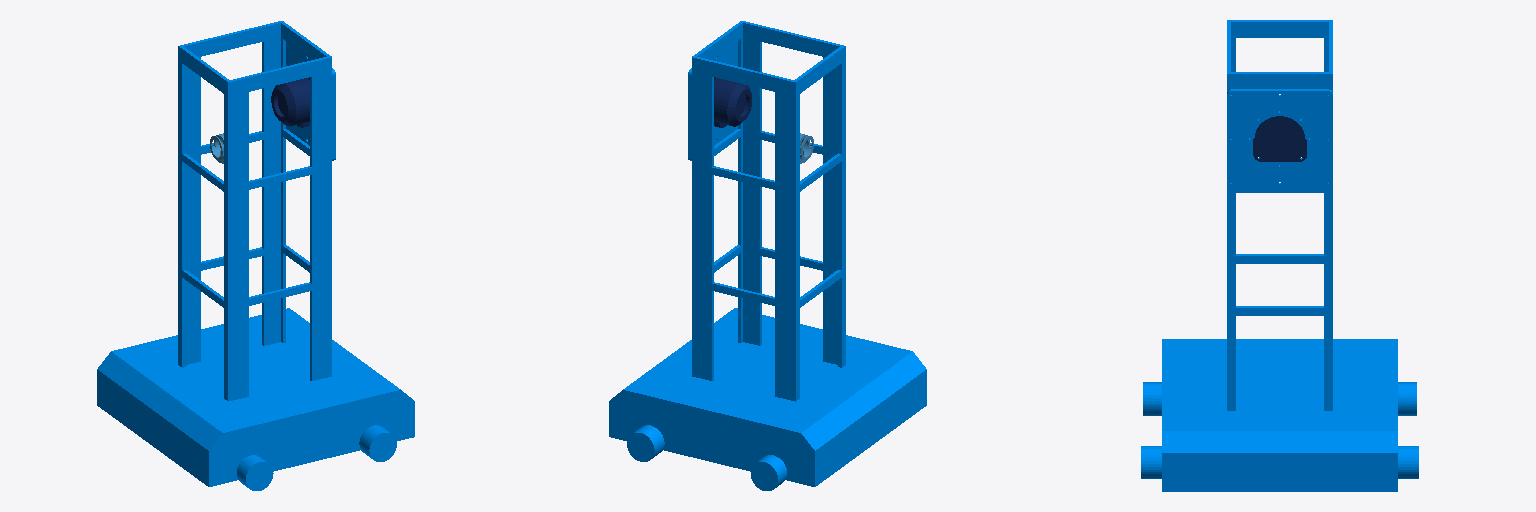
The robot description file, URDF, robot "cr_no_v.SLDASM":
<?xml version="1.0" encoding="utf-8"?>
<!-- This URDF was automatically created by SolidWorks to URDF Exporter! Originally created by [author] ([email redacted]) 
     Commit Version: 1.6.0-4-g7f85cfe  Build Version: 1.6.7995.38578
     For more information, please see http://wiki.ros.org/sw_urdf_exporter -->
<robot
  name="cr_no_v.SLDASM">
  <link
    name="base_link">
    <inertial>
      <origin
        xyz="0.0035105 9.3853E-07 0.20233"
        rpy="0 0 0" />
      <mass
        value="50.046" />
      <inertia
        ixx="2.7717"
        ixy="2.0142E-07"
        ixz="-0.053688"
        iyy="2.8372"
        iyz="-5.3566E-05"
        izz="2.6914" />
    </inertial>
    <visual>
      <origin
        xyz="0 0 0"
        rpy="0 0 0" />
      <geometry>
        <mesh
          filename="package://cr_no_v.SLDASM/meshes/base_link.STL" />
      </geometry>
      <material
        name="al">
        <color
          rgba="0 0.6 1 1" />
      </material>
    </visual>
    <collision>
      <origin
        xyz="0 0 0"
        rpy="0 0 0" />
      <geometry>
        <mesh
          filename="package://cr_no_v.SLDASM/meshes/base_link.STL" />
      </geometry>
    </collision>
  </link>
  <link
    name="wheel_rf_link">
    <inertial>
      <origin
        xyz="-2.377E-08 0.025001 -6.6441E-06"
        rpy="0 0 0" />
      <mass
        value="1.6415" />
      <inertia
        ixx="0.005947"
        ixy="1.8204E-10"
        ixz="-1.3982E-09"
        iyy="0.011256"
        iyz="-3.3293E-10"
        izz="0.005947" />
    </inertial>
    <visual>
      <origin
        xyz="0 0 0"
        rpy="0 0 0" />
      <geometry>
        <mesh
          filename="package://cr_no_v.SLDASM/meshes/wheel_rf_link.STL" />
      </geometry>
      <material
        name="">
        <color
          rgba="0.5 0.5 0.5 1" />
      </material>
    </visual>
    <collision>
      <origin
        xyz="0 0 0"
        rpy="0 0 0" />
      <geometry>
        <mesh
          filename="package://cr_no_v.SLDASM/meshes/wheel_rf_link.STL" />
      </geometry>
    </collision>
  </link>
  <joint
    name="wheel_rf_joint"
    type="continuous">
    <origin
      xyz="0.1787 -0.32914 0.1125"
      rpy="0 0 0" />
    <parent
      link="base_link" />
    <child
      link="wheel_rf_link" />
    <axis
      xyz="0 1 0" />
  </joint>
  <link
    name="wheel_lf_link">
    <inertial>
      <origin
        xyz="6.1889E-08 -0.024999 -3.4683E-06"
        rpy="0 0 0" />
      <mass
        value="1.6415" />
      <inertia
        ixx="0.005947"
        ixy="3.0662E-11"
        ixz="1.9576E-09"
        iyy="0.011256"
        iyz="-3.3292E-10"
        izz="0.005947" />
    </inertial>
    <visual>
      <origin
        xyz="0 0 0"
        rpy="0 0 0" />
      <geometry>
        <mesh
          filename="package://cr_no_v.SLDASM/meshes/wheel_lf_link.STL" />
      </geometry>
      <material
        name="">
        <color
          rgba="0.5 0.5 0.5 1" />
      </material>
    </visual>
    <collision>
      <origin
        xyz="0 0 0"
        rpy="0 0 0" />
      <geometry>
        <mesh
          filename="package://cr_no_v.SLDASM/meshes/wheel_lf_link.STL" />
      </geometry>
    </collision>
  </link>
  <joint
    name="wheel_lf_joint"
    type="continuous">
    <origin
      xyz="0.1787 0.32914 0.1125"
      rpy="0 0 0" />
    <parent
      link="base_link" />
    <child
      link="wheel_lf_link" />
    <axis
      xyz="0 1 0" />
  </joint>
  <link
    name="wheel_lr_link">
    <inertial>
      <origin
        xyz="0.00013107 1.5985E-06 0.020265"
        rpy="0 0 0" />
      <mass
        value="1.6024" />
      <inertia
        ixx="0.0057413"
        ixy="9.8389E-35"
        ixz="1.2543E-19"
        iyy="0.0057413"
        iyz="-7.5792E-18"
        izz="0.010787" />
    </inertial>
    <visual>
      <origin
        xyz="0 0 0"
        rpy="0 0 0" />
      <geometry>
        <mesh
          filename="package://cr_no_v.SLDASM/meshes/wheel_lr_link.STL" />
      </geometry>
      <material
        name="">
        <color
          rgba="0.7 0.7 0.2 1" />
      </material>
    </visual>
    <collision>
      <origin
        xyz="0 0 0"
        rpy="0 0 0" />
      <geometry>
        <mesh
          filename="package://cr_no_v.SLDASM/meshes/wheel_lr_link.STL" />
      </geometry>
    </collision>
  </link>
  <joint
    name="wheel_lr_joint"
    type="continuous">
    <origin
      xyz="-0.17499 0.3244 0.1125"
      rpy="1.5708 0 0" />
    <parent
      link="base_link" />
    <child
      link="wheel_lr_link" />
    <axis
      xyz="-0.0003518 0 -1" />
  </joint>
  <link
    name="wheel_rr_Link">
    <inertial>
      <origin
        xyz="-9.7179E-05 0.020265 -2.9986E-09"
        rpy="0 0 0" />
      <mass
        value="1.6024" />
      <inertia
        ixx="0.0057413"
        ixy="-1.4123E-19"
        ixz="4.4829E-34"
        iyy="0.010787"
        iyz="-1.7435E-17"
        izz="0.0057413" />
    </inertial>
    <visual>
      <origin
        xyz="0 0 0"
        rpy="0 0 0" />
      <geometry>
        <mesh
          filename="package://cr_no_v.SLDASM/meshes/wheel_rr_Link.STL" />
      </geometry>
      <material
        name="">
        <color
          rgba="0.7 0.7 0.2 1" />
      </material>
    </visual>
    <collision>
      <origin
        xyz="0 0 0"
        rpy="0 0 0" />
      <geometry>
        <mesh
          filename="package://cr_no_v.SLDASM/meshes/wheel_rr_Link.STL" />
      </geometry>
    </collision>
  </link>
  <joint
    name="wheel_rr_joint"
    type="continuous">
    <origin
      xyz="-0.17476 -0.3244 0.1125"
      rpy="0 0 0" />
    <parent
      link="base_link" />
    <child
      link="wheel_rr_Link" />
    <axis
      xyz="-0.0003518 1 0" />
  </joint>
  <link
    name="Rob_base">
    <inertial>
      <origin
        xyz="-0.00059199 0.00061297 0.039398"
        rpy="0 0 0" />
      <mass
        value="0.91605" />
      <inertia
        ixx="0.0013771"
        ixy="-1.6838E-07"
        ixz="-1.2662E-06"
        iyy="0.0013992"
        iyz="1.1024E-07"
        izz="0.0016573" />
    </inertial>
    <visual>
      <origin
        xyz="0 0 0"
        rpy="0 0 0" />
      <geometry>
        <mesh
          filename="package://cr_no_v.SLDASM/meshes/Rob_base.STL" />
      </geometry>
      <material
        name="">
        <color
          rgba="0.1 0.2 0.4 1" />
      </material>
    </visual>
    <collision>
      <origin
        xyz="0 0 0"
        rpy="0 0 0" />
      <geometry>
        <mesh
          filename="package://cr_no_v.SLDASM/meshes/Rob_base.STL" />
      </geometry>
    </collision>
  </link>
  <joint
    name="Rob_base_fix"
    type="fixed">
    <origin
      xyz="0.15995 0 0.9465"
      rpy="0 -1.5708 0" />
    <parent
      link="base_link" />
    <child
      link="Rob_base" />
    <axis
      xyz="0 0 0" />
  </joint>
  <link
    name="arm_seg1">
    <inertial>
      <origin
        xyz="8.9128E-09 -0.00016808 0.057416"
        rpy="0 0 0" />
      <mass
        value="0.55857" />
      <inertia
        ixx="0.00064447"
        ixy="-8.2983E-11"
        ixz="9.7825E-11"
        iyy="0.00075757"
        iyz="-1.0039E-06"
        izz="0.00052009" />
    </inertial>
    <visual>
      <origin
        xyz="0 0 0"
        rpy="0 0 0" />
      <geometry>
        <mesh
          filename="package://cr_no_v.SLDASM/meshes/arm_seg1.STL" />
      </geometry>
      <material
        name="">
        <color
          rgba="0.2 0.2 0.4 1" />
      </material>
    </visual>
    <collision>
      <origin
        xyz="0 0 0"
        rpy="0 0 0" />
      <geometry>
        <mesh
          filename="package://cr_no_v.SLDASM/meshes/arm_seg1.STL" />
      </geometry>
    </collision>
  </link>
  <joint
    name="arm_seg1_rev"
    type="revolute">
    <origin
      xyz="0 0 0.0892"
      rpy="0 0 3.1416" />
    <parent
      link="Rob_base" />
    <child
      link="arm_seg1" />
    <axis
      xyz="0 0 -1" />
    <limit
      lower="0"
      upper="0"
      effort="0"
      velocity="0" />
  </joint>
  <link
    name="arm_seg2">
    <inertial>
      <origin
        xyz="0.20298 0.018509 0.00037949"
        rpy="0 0 0" />
      <mass
        value="0.76675" />
      <inertia
        ixx="0.001099"
        ixy="-0.00066885"
        ixz="2.1104E-05"
        iyy="0.014608"
        iyz="-2.2639E-07"
        izz="0.014433" />
    </inertial>
    <visual>
      <origin
        xyz="0 0 0"
        rpy="0 0 0" />
      <geometry>
        <mesh
          filename="package://cr_no_v.SLDASM/meshes/arm_seg2.STL" />
      </geometry>
      <material
        name="">
        <color
          rgba="0.3 0.3 0.8 1" />
      </material>
    </visual>
    <collision>
      <origin
        xyz="0 0 0"
        rpy="0 0 0" />
      <geometry>
        <mesh
          filename="package://cr_no_v.SLDASM/meshes/arm_seg2.STL" />
      </geometry>
    </collision>
  </link>
  <joint
    name="arm_seg2_rev"
    type="revolute">
    <origin
      xyz="0 0 0.0615"
      rpy="1.5708 0 0" />
    <parent
      link="arm_seg1" />
    <child
      link="arm_seg2" />
    <axis
      xyz="0 0 1" />
    <limit
      lower="0"
      upper="0"
      effort="0"
      velocity="0" />
  </joint>
  <link
    name="arm_seg3">
    <inertial>
      <origin
        xyz="0.062638 0.099583 -0.00060821"
        rpy="0 0 0" />
      <mass
        value="0.92519" />
      <inertia
        ixx="0.0054137"
        ixy="-0.0005461"
        ixz="9.1776E-09"
        iyy="0.00089221"
        iyz="1.2056E-11"
        izz="0.0054963" />
    </inertial>
    <visual>
      <origin
        xyz="0 0 0"
        rpy="0 0 0" />
      <geometry>
        <mesh
          filename="package://cr_no_v.SLDASM/meshes/arm_seg3.STL" />
      </geometry>
      <material
        name="">
        <color
          rgba="0.2 0.3 0.8 1" />
      </material>
    </visual>
    <collision>
      <origin
        xyz="0 0 0"
        rpy="0 0 0" />
      <geometry>
        <mesh
          filename="package://cr_no_v.SLDASM/meshes/arm_seg3.STL" />
      </geometry>
    </collision>
  </link>
  <joint
    name="arm_seg3_rev"
    type="revolute">
    <origin
      xyz="0.34928 0.02 -0.00068495"
      rpy="-3.1416 0 1.5708" />
    <parent
      link="arm_seg2" />
    <child
      link="arm_seg3" />
    <axis
      xyz="0 0 1" />
    <limit
      lower="0"
      upper="0"
      effort="0"
      velocity="0" />
  </joint>
  <link
    name="arm_seg4">
    <inertial>
      <origin
        xyz="0.00060866 -0.0011863 0.27449"
        rpy="0 0 0" />
      <mass
        value="0.082693" />
      <inertia
        ixx="6.2751E-05"
        ixy="-1.3077E-09"
        ixz="7.6011E-10"
        iyy="7.2735E-05"
        iyz="3.0814E-06"
        izz="5.9938E-05" />
    </inertial>
    <visual>
      <origin
        xyz="0 0 0"
        rpy="0 0 0" />
      <geometry>
        <mesh
          filename="package://cr_no_v.SLDASM/meshes/arm_seg4.STL" />
      </geometry>
      <material
        name="">
        <color
          rgba="0.3 0.6 0.8 1" />
      </material>
    </visual>
    <collision>
      <origin
        xyz="0 0 0"
        rpy="0 0 0" />
      <geometry>
        <mesh
          filename="package://cr_no_v.SLDASM/meshes/arm_seg4.STL" />
      </geometry>
    </collision>
  </link>
  <joint
    name="arm_seg4_rev"
    type="revolute">
    <origin
      xyz="0.07 0.00395 0"
      rpy="1.5708 1.5708 0" />
    <parent
      link="arm_seg3" />
    <child
      link="arm_seg4" />
    <axis
      xyz="0 0 -1" />
    <limit
      lower="0"
      upper="0"
      effort="0"
      velocity="0" />
  </joint>
  <link
    name="arm_seg5">
    <inertial>
      <origin
        xyz="-0.00060822 -0.05437 0.0043434"
        rpy="0 0 0" />
      <mass
        value="0.16811" />
      <inertia
        ixx="0.00012612"
        ixy="-6.1178E-11"
        ixz="-8.5675E-12"
        iyy="8.8779E-05"
        iyz="-2.0109E-05"
        izz="0.00010791" />
    </inertial>
    <visual>
      <origin
        xyz="0 0 0"
        rpy="0 0 0" />
      <geometry>
        <mesh
          filename="package://cr_no_v.SLDASM/meshes/arm_seg5.STL" />
      </geometry>
      <material
        name="">
        <color
          rgba="0.7 0.2 0.6 1" />
      </material>
    </visual>
    <collision>
      <origin
        xyz="0 0 0"
        rpy="0 0 0" />
      <geometry>
        <mesh
          filename="package://cr_no_v.SLDASM/meshes/arm_seg5.STL" />
      </geometry>
    </collision>
  </link>
  <joint
    name="arm_seg5_rev"
    type="revolute">
    <origin
      xyz="0 0 0.2776"
      rpy="-1.5708 0 3.1416" />
    <parent
      link="arm_seg4" />
    <child
      link="arm_seg5" />
    <axis
      xyz="0 0 1" />
    <limit
      lower="0"
      upper="0"
      effort="0"
      velocity="0" />
  </joint>
  <link
    name="arm_seg6">
    <inertial>
      <origin
        xyz="3.3859E-05 3.3861E-05 3.3858E-05"
        rpy="0 0 0" />
      <mass
        value="0.0005335" />
      <inertia
        ixx="5.4365E-09"
        ixy="6.1125E-13"
        ixz="6.1448E-13"
        iyy="5.4365E-09"
        iyz="6.1131E-13"
        izz="5.4365E-09" />
    </inertial>
    <visual>
      <origin
        xyz="0 0 0"
        rpy="0 0 0" />
      <geometry>
        <mesh
          filename="package://cr_no_v.SLDASM/meshes/arm_seg6.STL" />
      </geometry>
      <material
        name="">
        <color
          rgba="0.5 0.2 0.6 1" />
      </material>
    </visual>
    <collision>
      <origin
        xyz="0 0 0"
        rpy="0 0 0" />
      <geometry>
        <mesh
          filename="package://cr_no_v.SLDASM/meshes/arm_seg6.STL" />
      </geometry>
    </collision>
  </link>
  <joint
    name="arm_seg6_rev"
    type="revolute">
    <origin
      xyz="0 -0.1575 0"
      rpy="1.5708 0 0" />
    <parent
      link="arm_seg5" />
    <child
      link="arm_seg6" />
    <axis
      xyz="0 0 1" />
    <limit
      lower="0"
      upper="0"
      effort="0"
      velocity="0" />
  </joint>
</robot>

--- Render facts (derived) ---
3 views of the same robot in one strip: view 1: azimuth 30°, elevation 25°; view 2: azimuth 150°, elevation 25°; view 3: azimuth 270°, elevation 25° (orthographic).
Robot: cr_no_v.SLDASM — 12 links, 11 joints (6 revolute, 4 continuous, 1 fixed); root link base_link; default pose: every joint at zero.
Links seen in each view (by area): view 1: base_link, Rob_base; view 2: base_link, Rob_base; view 3: base_link, Rob_base.
Boxes of the visible links, x1,y1,x2,y2 form: base_link: (97,21,414,490); Rob_base: (271,77,309,127); base_link: (609,21,926,490); Rob_base: (714,77,751,127); base_link: (1141,20,1418,491); Rob_base: (1253,116,1306,161).
Size in the robot's own frame: 0.5936 by 0.6583 by 1.04 metres.
Meshes: 12 distinct files referenced, 3 mesh visuals loaded (3 binary STL); not drawn: 9 (reference not matched to a file when rendering).